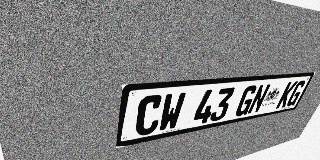3: (209, 87, 236, 122)
4: (192, 89, 219, 126)
C: (134, 94, 164, 137)
G: (233, 85, 259, 117), (285, 80, 307, 107)
K: (275, 81, 298, 109)
N: (246, 84, 271, 115)
W: (157, 92, 187, 133)
